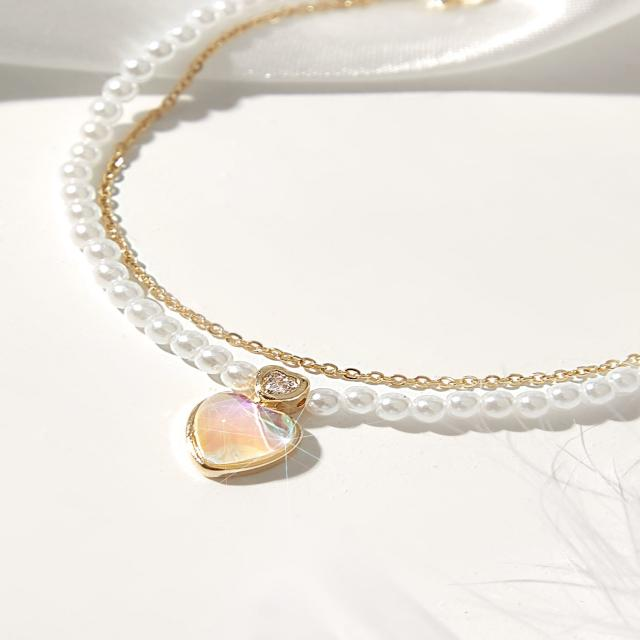bracelet: (3, 1, 640, 516)
